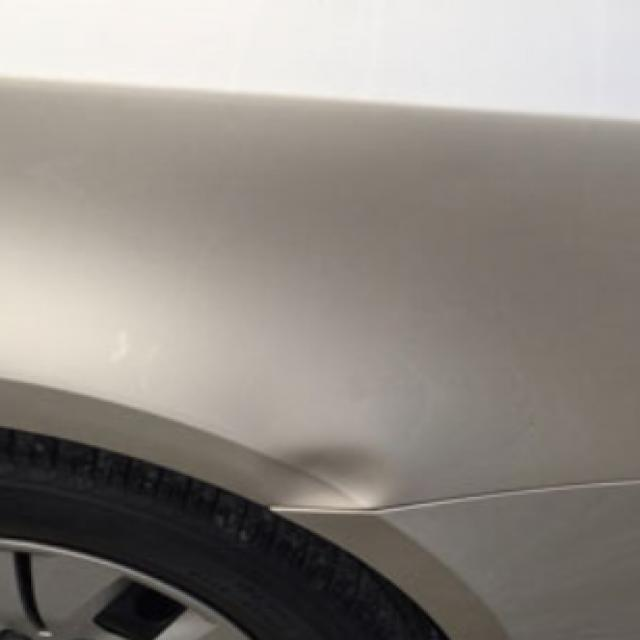dents: (243, 436, 389, 516)
